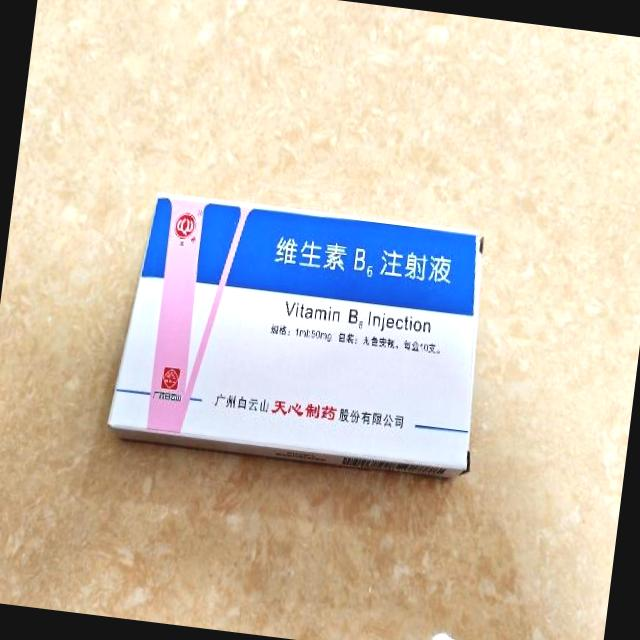box: (104, 188, 498, 480)
